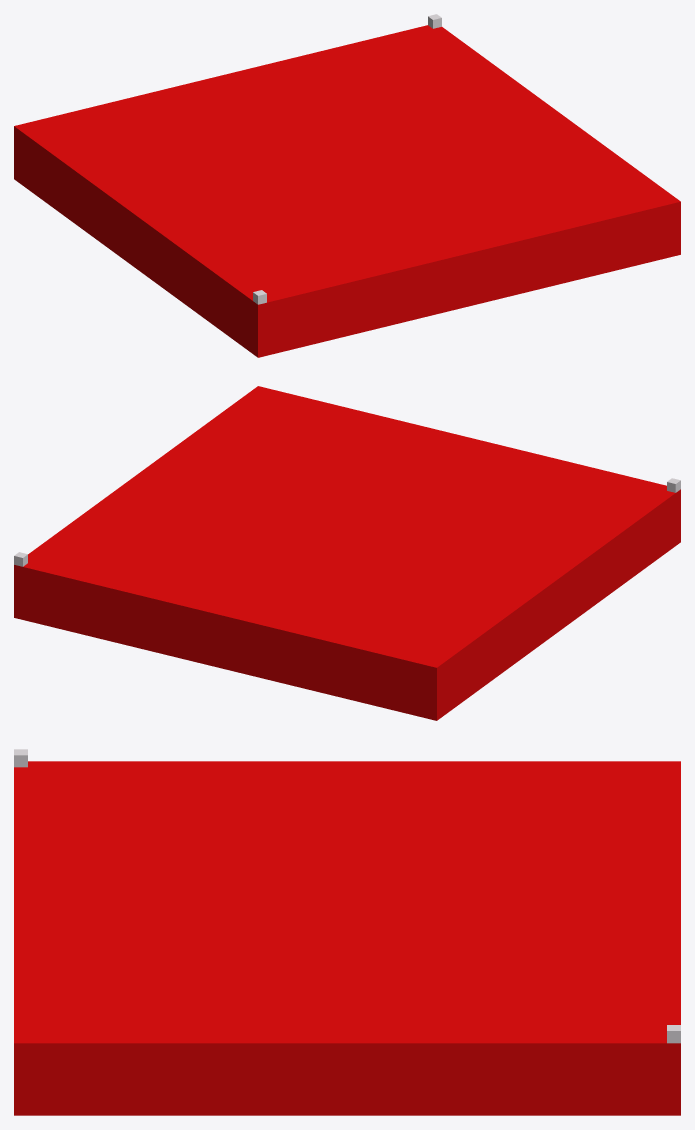
Rendered from 2corner_diagonal.glb.
3 views of the same model, one above another, from view 1: azimuth 30°, elevation 25°; view 2: azimuth 150°, elevation 25°; view 3: azimuth 270°, elevation 25° (orthographic). The views are drawn at different scales.
Visible parts, largest first — view 1: 2corner_diagonal; view 2: 2corner_diagonal; view 3: 2corner_diagonal.
Boxes of the visible parts, bbox=[...] form: 2corner_diagonal: bbox=[14, 25, 680, 357]; 2corner_diagonal: bbox=[14, 386, 680, 720]; 2corner_diagonal: bbox=[14, 761, 680, 1115].
Bounding box in the file's own units: 1 × 0.14 × 1.
